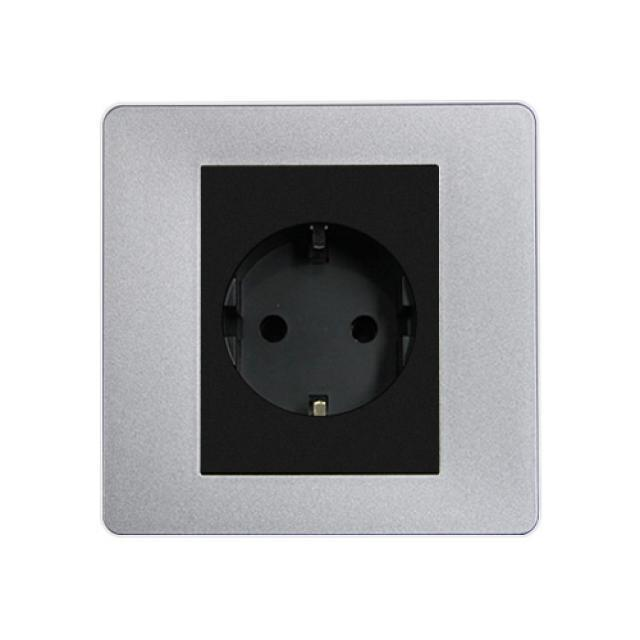typeb: (70, 79, 596, 585)
